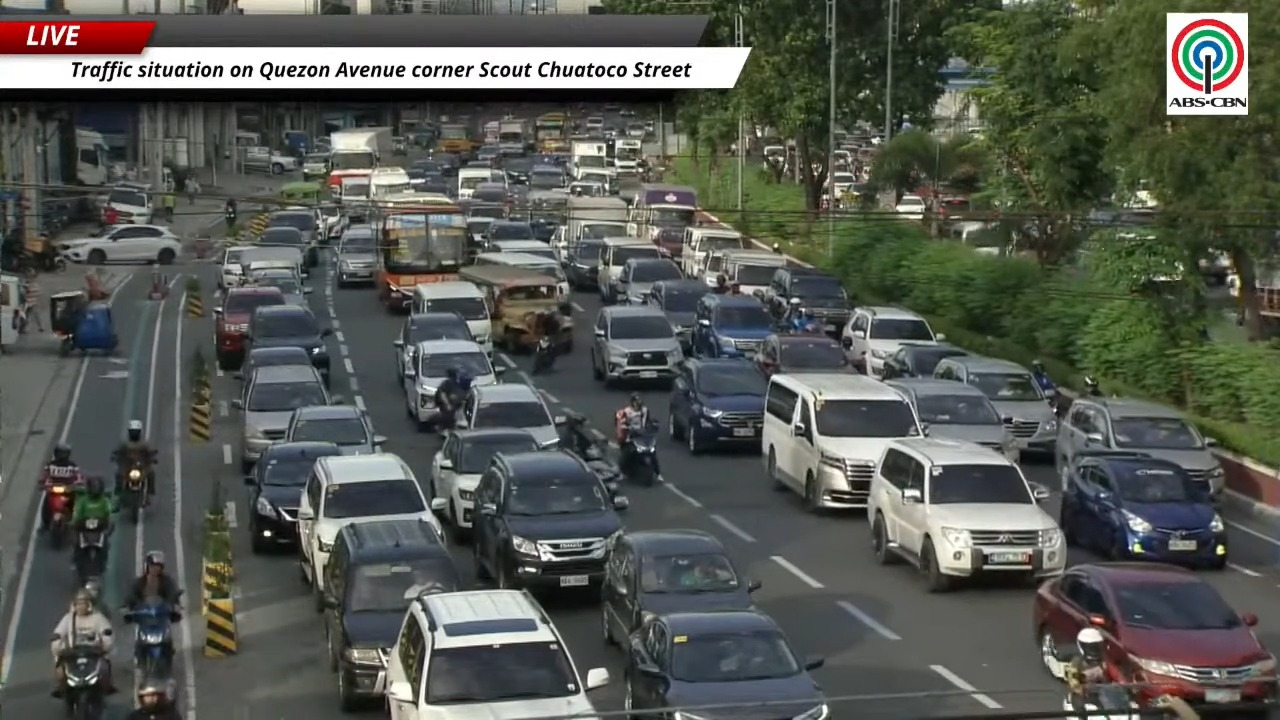bus: (375, 203, 466, 310), (435, 124, 477, 156), (535, 112, 566, 150)
car: (1033, 562, 1276, 704), (867, 437, 1067, 592), (386, 589, 608, 719), (324, 520, 461, 711), (297, 453, 443, 611), (761, 373, 923, 512), (624, 610, 828, 719), (472, 451, 625, 588), (1060, 451, 1227, 568), (601, 529, 760, 644), (1055, 396, 1224, 498), (933, 355, 1058, 456), (431, 428, 539, 533), (885, 378, 1019, 461), (232, 365, 332, 473), (245, 442, 341, 553), (668, 359, 767, 453), (403, 340, 504, 428), (591, 306, 683, 386), (841, 306, 944, 377), (244, 304, 331, 386), (460, 383, 563, 448), (411, 280, 492, 357), (213, 287, 285, 370), (766, 266, 849, 334), (392, 313, 474, 380), (691, 294, 774, 357), (597, 225, 663, 304), (284, 405, 386, 454), (56, 224, 180, 264), (645, 279, 709, 354), (753, 333, 853, 376), (881, 342, 969, 379), (613, 258, 682, 304), (267, 208, 318, 267), (256, 226, 313, 275), (336, 225, 377, 287), (238, 347, 310, 381), (246, 268, 310, 305), (105, 182, 158, 223), (563, 238, 603, 289), (486, 238, 555, 264), (242, 146, 298, 175), (317, 203, 349, 244), (218, 246, 247, 290), (483, 220, 534, 244), (470, 176, 511, 202), (466, 216, 497, 249), (413, 174, 455, 197), (465, 199, 508, 220), (528, 165, 565, 189), (894, 194, 927, 220), (301, 152, 329, 180)
motorcycle: (123, 602, 181, 679), (60, 643, 105, 719), (41, 466, 81, 549), (621, 418, 659, 487), (1062, 686, 1141, 719), (73, 518, 108, 586), (118, 462, 149, 524), (434, 391, 464, 436), (531, 337, 556, 374)
truck: (328, 127, 392, 188), (74, 127, 110, 186), (569, 141, 607, 179), (535, 112, 566, 151), (498, 120, 533, 145)
